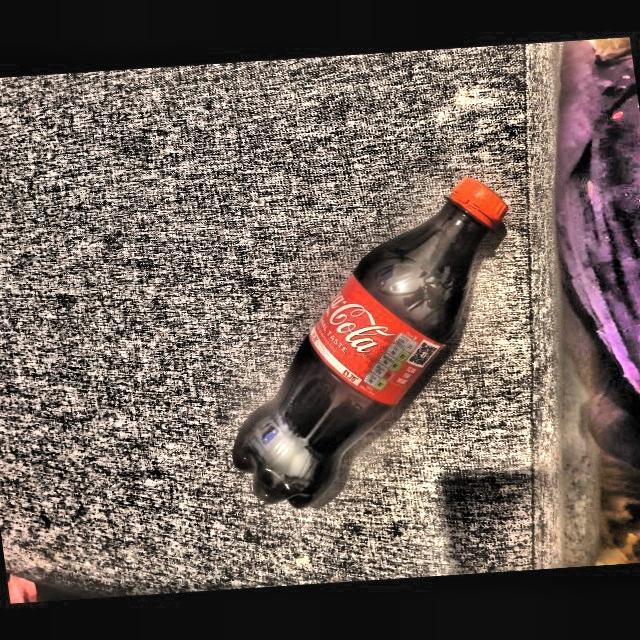coke-bottle: (226, 183, 517, 498)
